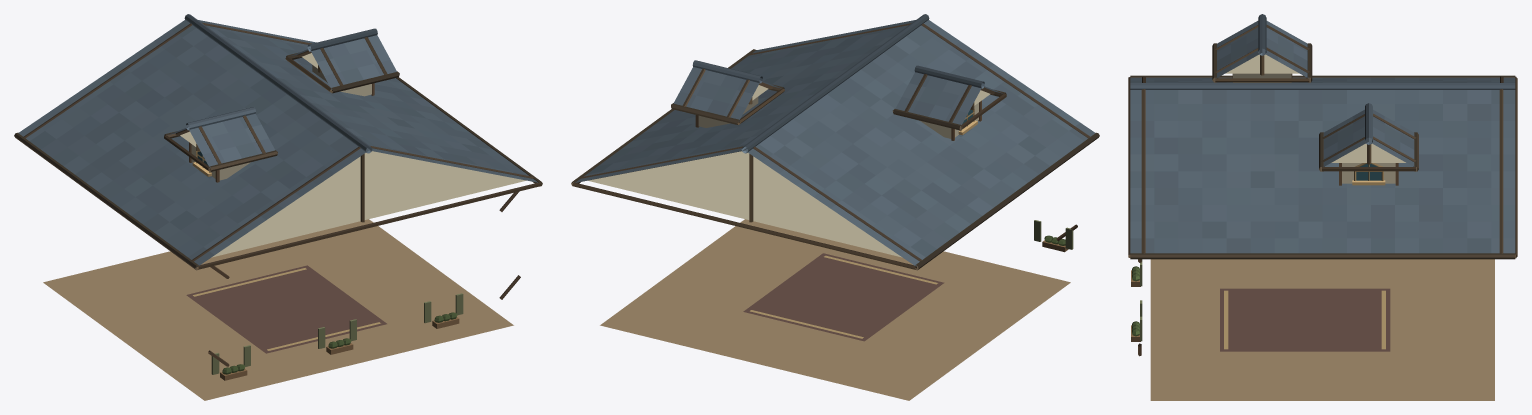
3 renders of one model, left to right at view 1: azimuth 30°, elevation 25°; view 2: azimuth 150°, elevation 25°; view 3: azimuth 270°, elevation 25°, orthographic. The views are drawn at different scales.
Parts seen in each view (by area): view 1: 2e06d502361da70ca84695cea050a43c0072e4494884ccaba6145fcf0ac5; view 2: 2e06d502361da70ca84695cea050a43c0072e4494884ccaba6145fcf0ac5; view 3: 2e06d502361da70ca84695cea050a43c0072e4494884ccaba6145fcf0ac5.
Part boxes in pixels (x1,y1,x2,y2): 2e06d502361da70ca84695cea050a43c0072e4494884ccaba6145fcf0ac5: (14,14,542,400); 2e06d502361da70ca84695cea050a43c0072e4494884ccaba6145fcf0ac5: (571,14,1099,400); 2e06d502361da70ca84695cea050a43c0072e4494884ccaba6145fcf0ac5: (1128,14,1517,400).
Bounding box in the file's own units: 12.02 × 7.61 × 10.97.
Materials: 6 (1 with a texture image).
